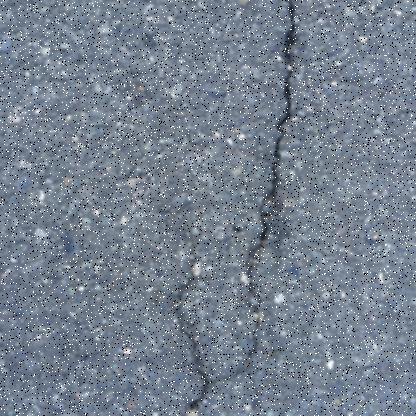Cracks: (229, 0, 305, 369), (152, 279, 217, 415)
